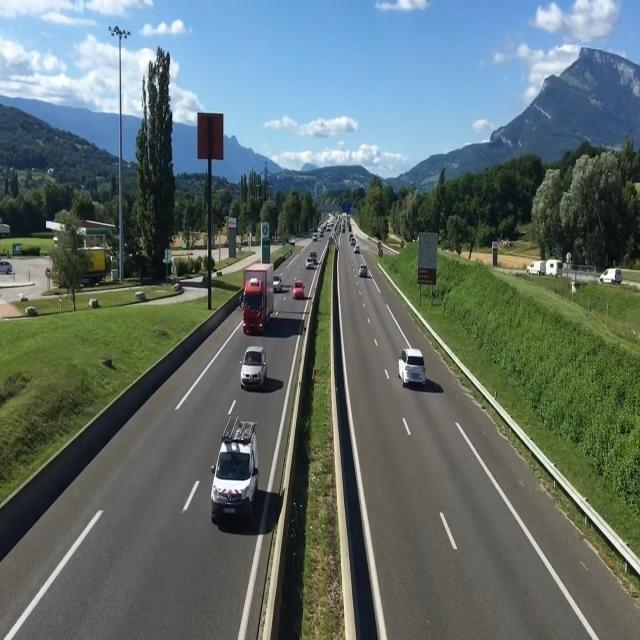Car: (398, 347, 426, 388), (240, 347, 268, 388), (292, 278, 306, 300), (0, 260, 13, 275), (273, 274, 283, 292), (358, 263, 368, 277), (305, 257, 314, 269), (353, 244, 361, 253)
Truck: (241, 263, 275, 335)
Van: (211, 430, 259, 524), (544, 258, 564, 277), (599, 268, 622, 284), (527, 260, 546, 275)
